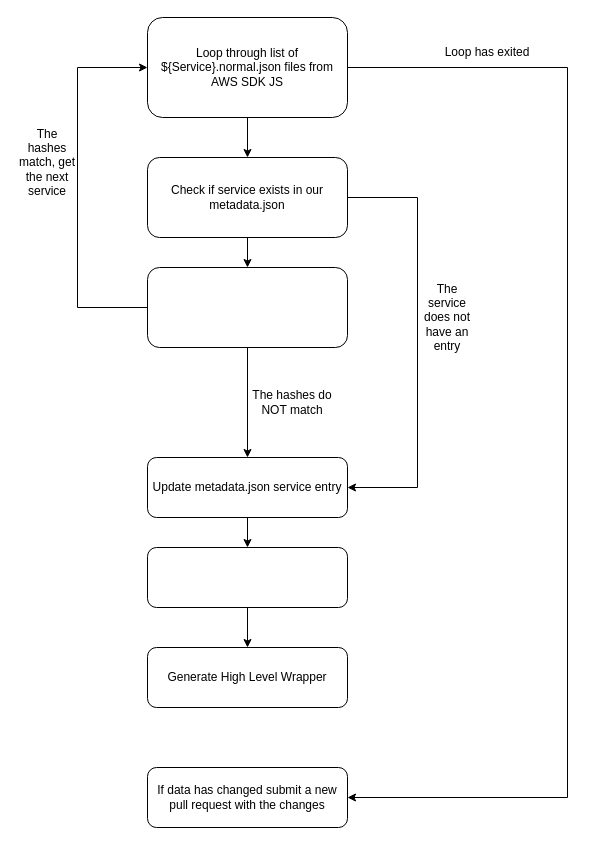
This 593x845 diagram has some shape labels left out. The centre of each missing label's shape, as x and y in pixels:
Check if service SHA hash matches what is on file: (247,307)
Generate Low Level Wrapper: (247,577)
